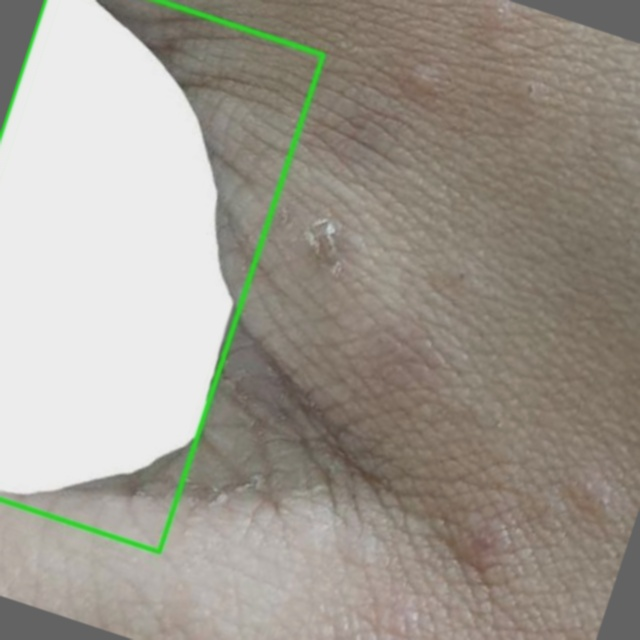Scabies: (0, 0, 323, 551)
